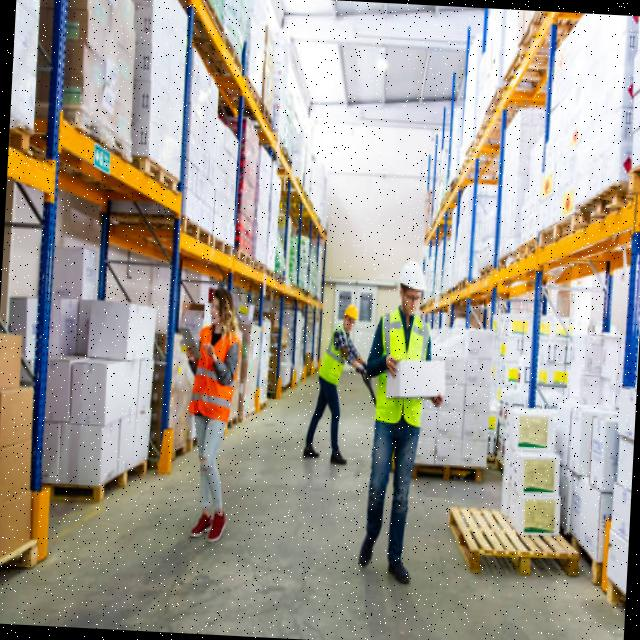Wooden-Pallets: (447, 499, 581, 574), (48, 452, 154, 513), (143, 153, 184, 201), (181, 211, 216, 255)
